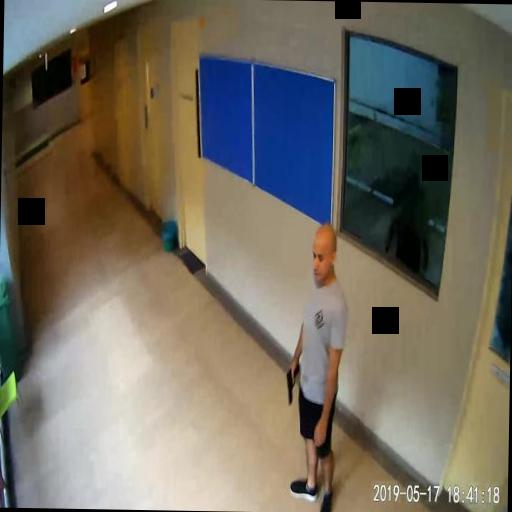Handgun: (284, 360, 298, 404)
